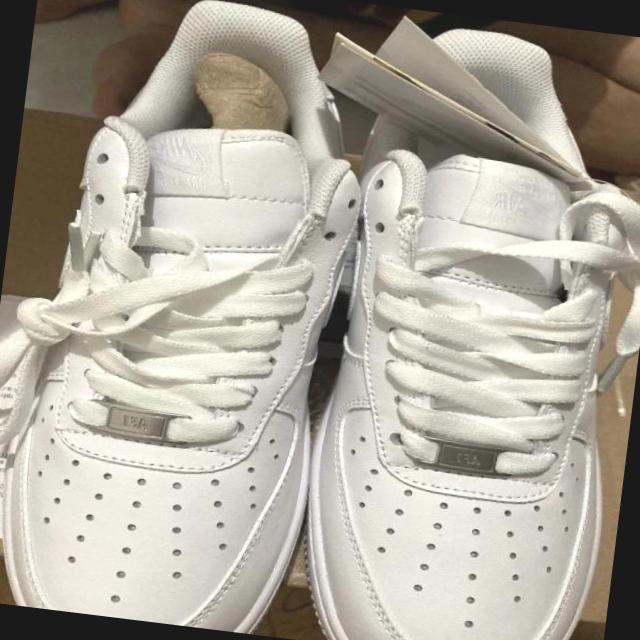nike_original_airforce: (0, 0, 383, 640), (295, 4, 640, 640)
